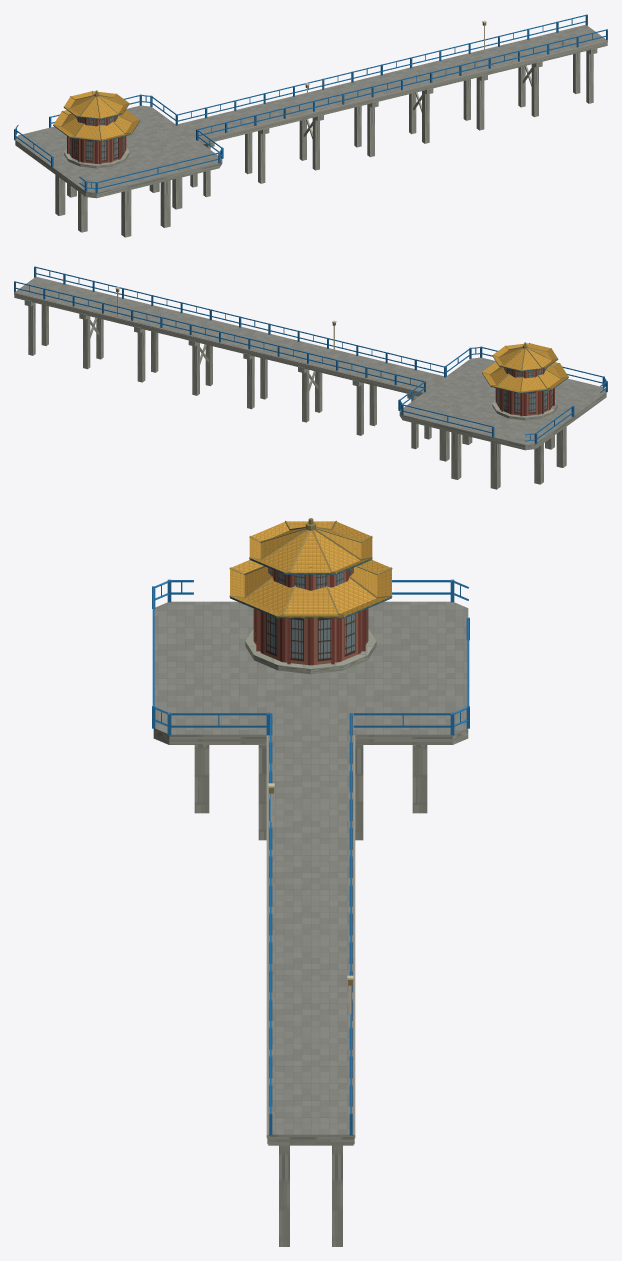
File: SM_QD_Zhanqiao_Granite_1K.fbx
3 renders of one model, top to bottom at view 1: azimuth 30°, elevation 25°; view 2: azimuth 150°, elevation 25°; view 3: azimuth 270°, elevation 25°, orthographic. The views are drawn at different scales.
Parts seen in each view (by area): view 1: SM_QD_Zhanqiao_Granite_1K; view 2: SM_QD_Zhanqiao_Granite_1K; view 3: SM_QD_Zhanqiao_Granite_1K.
Part boxes in pixels (<box>): SM_QD_Zhanqiao_Granite_1K: <box>14,14,607,237</box>; SM_QD_Zhanqiao_Granite_1K: <box>14,266,607,489</box>; SM_QD_Zhanqiao_Granite_1K: <box>152,518,469,1246</box>.
Bounding box in the file's own units: 56.28 × 14.16 × 12.31.
